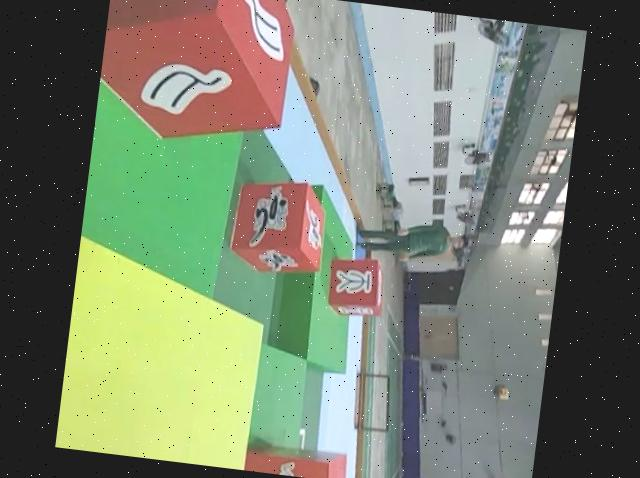R1: (224, 173, 328, 279), (237, 443, 356, 478)
R2 Fake: (322, 253, 386, 319)
R2 Real: (92, 0, 298, 153)
